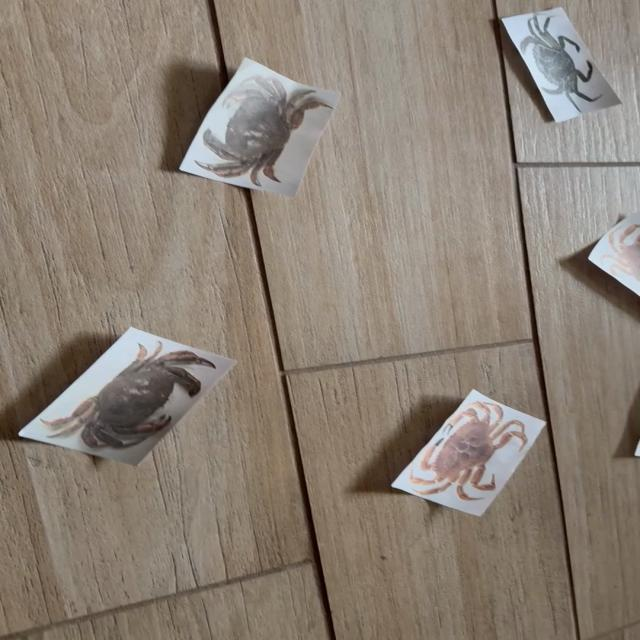egc: (501, 8, 620, 122)
